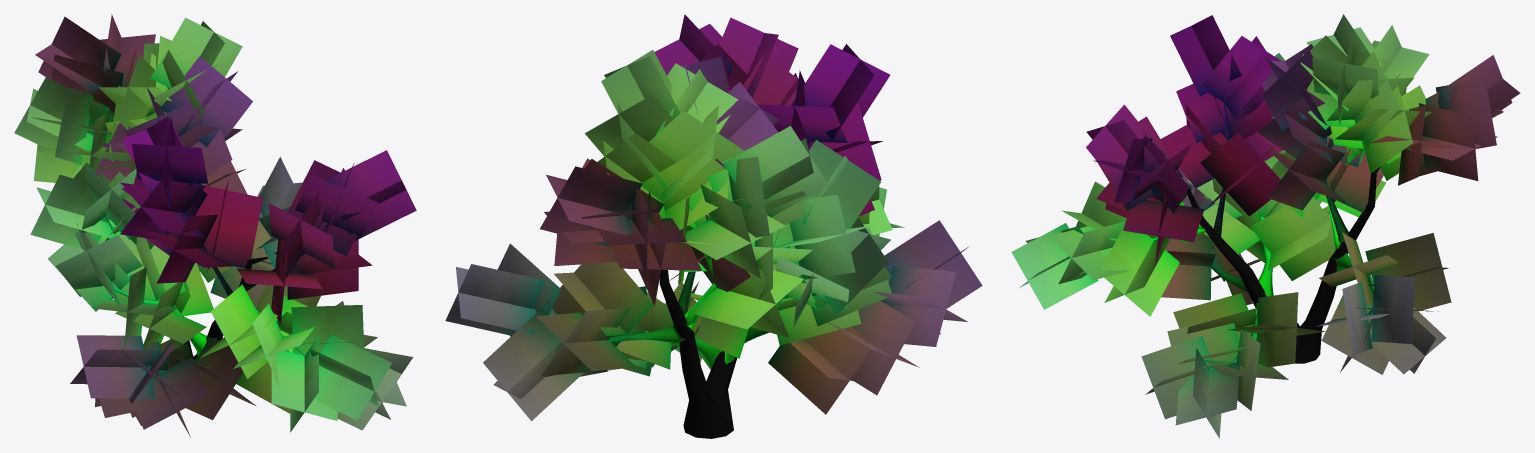
The model's file is URP_P11_Tree_8_LOD_2.fbx.
The picture shows the model from 3 angles, left to right: view 1: azimuth 30°, elevation 25°; view 2: azimuth 150°, elevation 25°; view 3: azimuth 270°, elevation 25°; orthographic projection. The views are drawn at different scales.
Visible parts, largest first — view 1: Tree_8_LOD_2; view 2: Tree_8_LOD_2; view 3: Tree_8_LOD_2.
Boxes of the visible parts, x1=… form: Tree_8_LOD_2: x1=14, y1=14, x2=416, y2=437; Tree_8_LOD_2: x1=445, y1=14, x2=982, y2=438; Tree_8_LOD_2: x1=1011, y1=14, x2=1520, y2=438.
Size of the model in its own units: 581 by 587 by 783.
